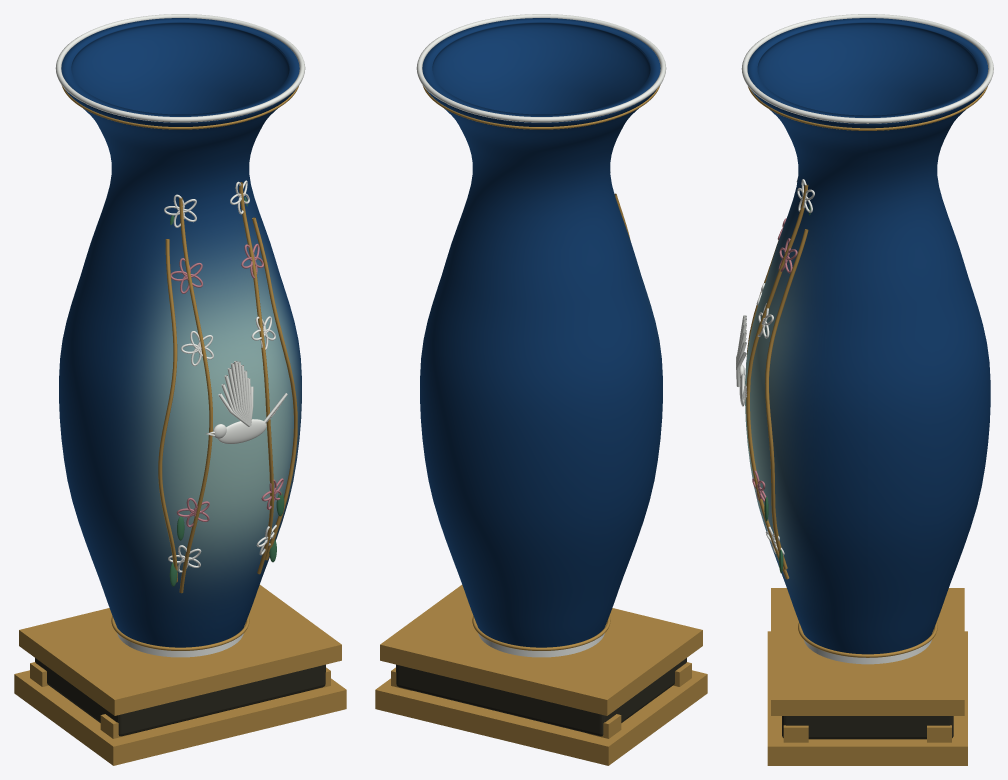
File: bcm-941.glb
The picture shows the model from 3 angles, left to right: view 1: azimuth 30°, elevation 25°; view 2: azimuth 150°, elevation 25°; view 3: azimuth 270°, elevation 25°; orthographic projection.
Parts seen in each view (by area): view 1: 941 hollow porcelain vase, 941 gilt shoulder and foot line, 941 closed foot, 941 dark inset plinth, Photographed floral motif - approximate detail.005, 941 layered clay leaf; view 2: 941 hollow porcelain vase, 941 gilt shoulder and foot line, 941 dark inset plinth, 941 closed foot; view 3: 941 hollow porcelain vase, 941 gilt shoulder and foot line, 941 closed foot, 941 dark inset plinth, Photographed floral motif - approximate detail.005.
Part boxes in pixels (x1=…): 941 hollow porcelain vase: x1=59, y1=18, x2=301, y2=647; 941 gilt shoulder and foot line: x1=14, y1=85, x2=346, y2=765; 941 closed foot: x1=55, y1=14, x2=305, y2=657; 941 dark inset plinth: x1=35, y1=658, x2=325, y2=736; Photographed floral motif - approximate detail.005: x1=170, y1=243, x2=283, y2=527; 941 layered clay leaf: x1=169, y1=197, x2=284, y2=586; 941 hollow porcelain vase: x1=420, y1=18, x2=662, y2=647; 941 gilt shoulder and foot line: x1=375, y1=85, x2=707, y2=765; 941 dark inset plinth: x1=396, y1=658, x2=686, y2=736; 941 closed foot: x1=416, y1=14, x2=666, y2=657; 941 hollow porcelain vase: x1=745, y1=18, x2=990, y2=654; 941 gilt shoulder and foot line: x1=746, y1=86, x2=987, y2=765; 941 closed foot: x1=736, y1=14, x2=993, y2=664; 941 dark inset plinth: x1=782, y1=716, x2=953, y2=739; Photographed floral motif - approximate detail.005: x1=752, y1=218, x2=797, y2=501.
Size of the model in its own units: 0.38 by 0.9888 by 0.36.
Materials: 6 (1 with a texture image).
